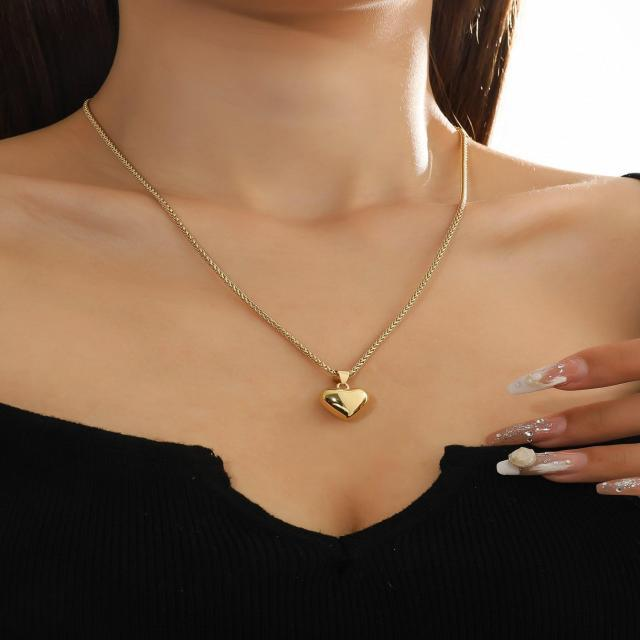Nail: (509, 358, 595, 394), (498, 447, 592, 477), (486, 412, 570, 444), (597, 477, 639, 496)
